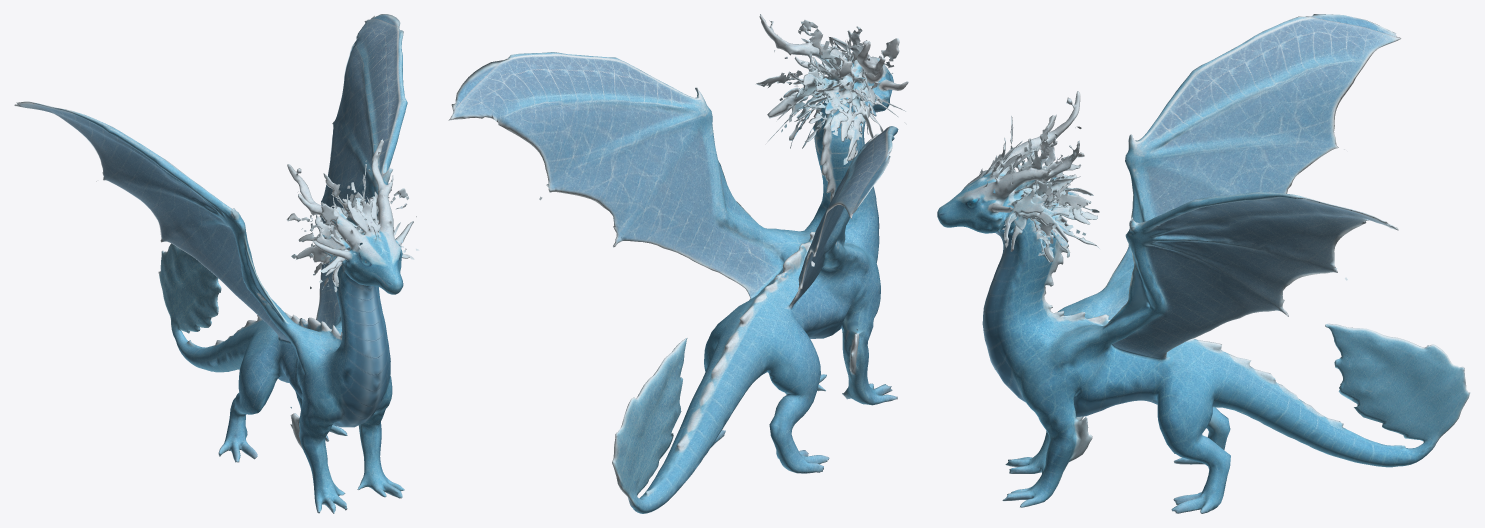
Rendered from crystal_beyonder.glb.
3 renders of one model, left to right at view 1: azimuth 30°, elevation 25°; view 2: azimuth 150°, elevation 25°; view 3: azimuth 270°, elevation 25°, orthographic. The views are drawn at different scales.
Size of the model in its own units: 1.72 by 1.57 by 2.
1 material, 1 textured.
